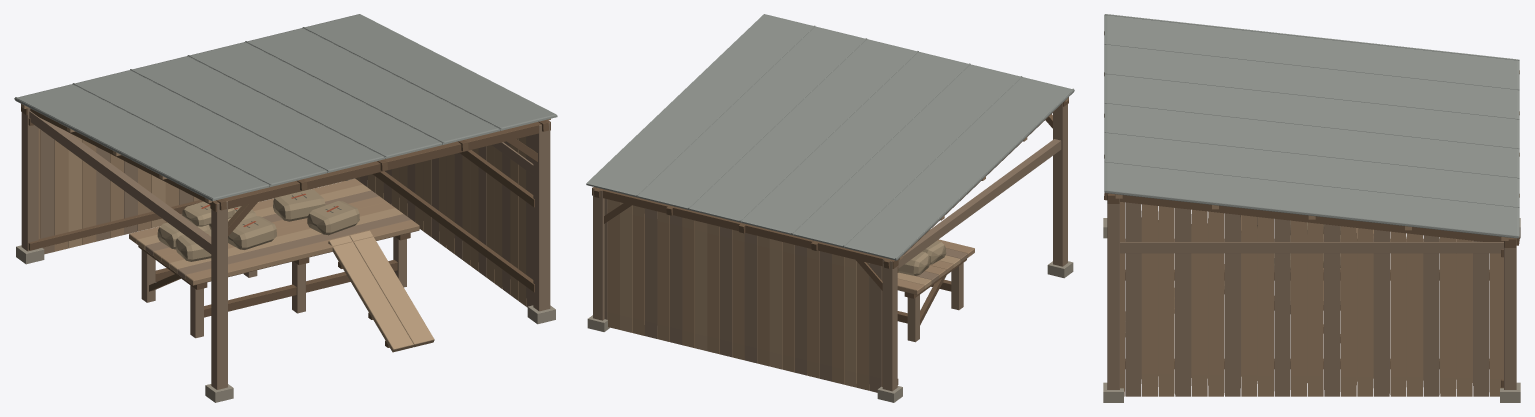
The model's file is SoutheastUnloadingShed_r003.glb.
3 renders of one model, left to right at view 1: azimuth 30°, elevation 25°; view 2: azimuth 150°, elevation 25°; view 3: azimuth 270°, elevation 25°, orthographic. The views are drawn at different scales.
Parts seen in each view (by area): view 1: Roof-col, Backwall-col, Frame-col, ReceivingDeck-col, Skid-col, GrainSacks-col; view 2: Roof-col, Backwall-col, Frame-col, ReceivingDeck-col, GrainSacks-col; view 3: Roof-col, Backwall-col, Frame-col.
Boxes of the visible parts, x1,y1,x2,y2 form: Roof-col: (14, 14, 557, 201); Backwall-col: (28, 118, 534, 307); Frame-col: (16, 104, 555, 402); ReceivingDeck-col: (129, 178, 419, 338); Skid-col: (328, 230, 434, 352); GrainSacks-col: (157, 189, 359, 261); Roof-col: (586, 14, 1074, 260); Backwall-col: (604, 198, 898, 392); Frame-col: (587, 97, 1073, 402); ReceivingDeck-col: (897, 239, 974, 342); GrainSacks-col: (898, 240, 946, 275); Roof-col: (1104, 14, 1519, 238); Backwall-col: (1120, 202, 1503, 396); Frame-col: (1103, 31, 1520, 402).
Bounding box in the file's own units: 6 × 3.39 × 6.
